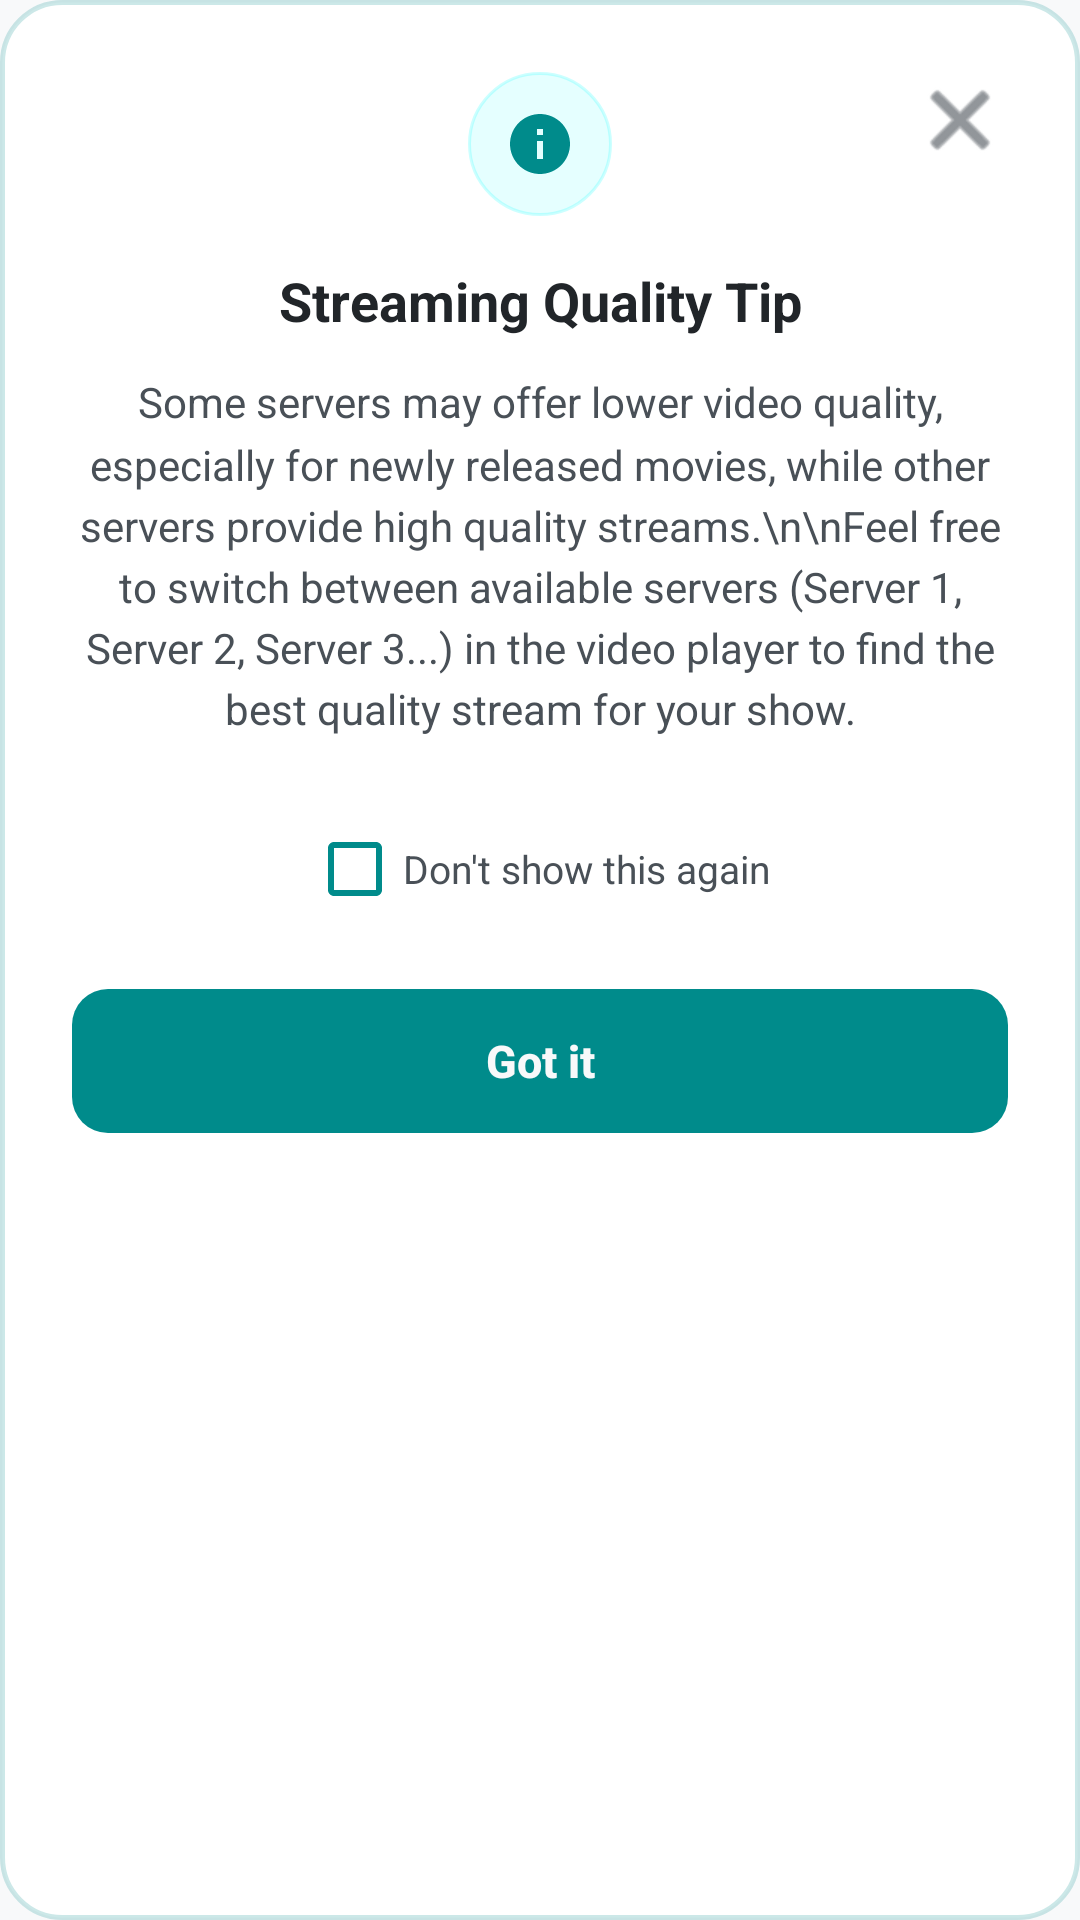

Icons on this 1080px x 1920px Android screen, each with the point to tap as point (x, y):
Close: point (960, 120)
Server Quality Tip: point (540, 144)
